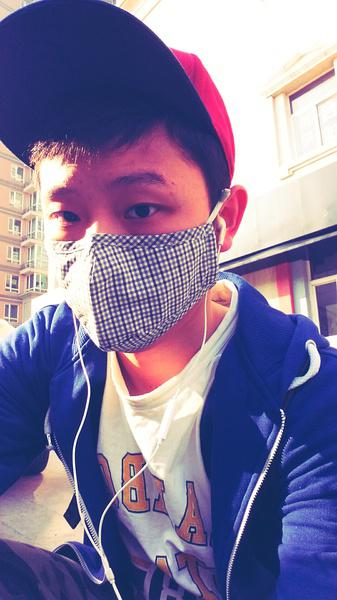OK: (34, 168, 218, 352)
